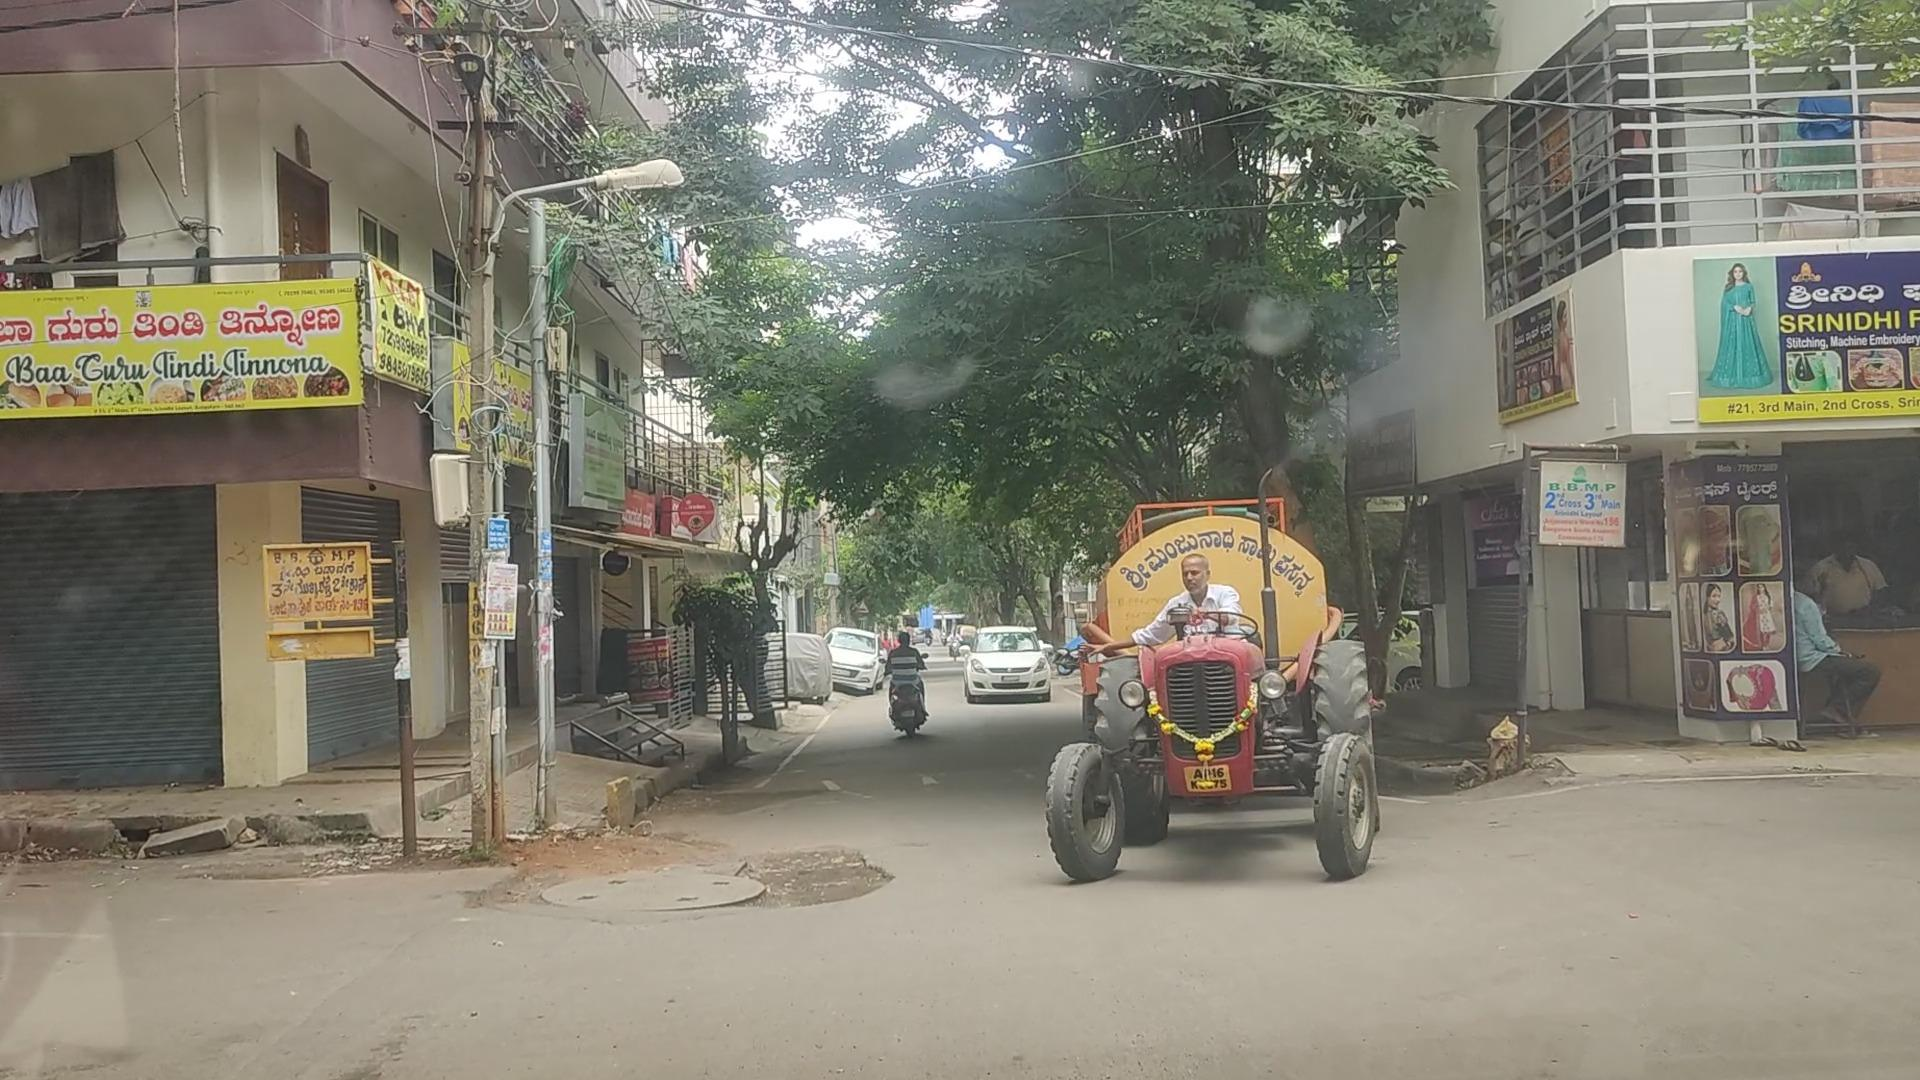HMV: (1044, 512, 1377, 884)
RoadDamages: (562, 853, 851, 936)
